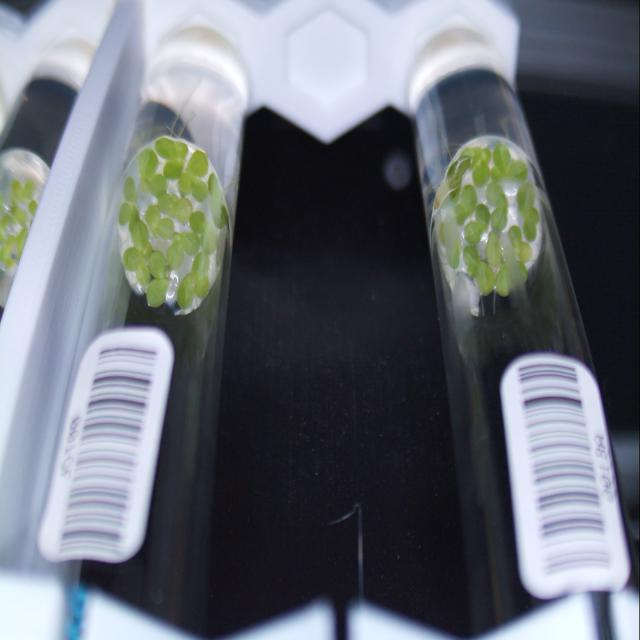Lemna-Gibba: (491, 143, 528, 180), (166, 232, 200, 269), (464, 147, 491, 187), (145, 205, 175, 240), (158, 193, 192, 223), (178, 170, 209, 202), (454, 185, 478, 225), (129, 215, 151, 257), (509, 225, 531, 263), (155, 137, 189, 160), (138, 147, 159, 182), (516, 182, 536, 218), (146, 279, 169, 307), (485, 230, 502, 267), (476, 262, 495, 295), (186, 150, 209, 177), (439, 215, 458, 247), (178, 274, 195, 309), (208, 173, 222, 215), (522, 208, 539, 242), (462, 245, 480, 277), (485, 182, 508, 207), (201, 222, 218, 254), (210, 198, 228, 228), (191, 252, 210, 280), (122, 247, 145, 270), (464, 220, 484, 245), (149, 250, 166, 279), (148, 173, 168, 197), (495, 264, 509, 297), (490, 207, 508, 230), (475, 203, 490, 230), (448, 238, 461, 269), (189, 210, 206, 233), (194, 275, 210, 299), (124, 177, 138, 203), (164, 160, 182, 180), (119, 202, 134, 225), (136, 262, 151, 285), (458, 158, 471, 177), (446, 160, 459, 178), (516, 260, 528, 279), (449, 173, 462, 190), (449, 185, 461, 203)
